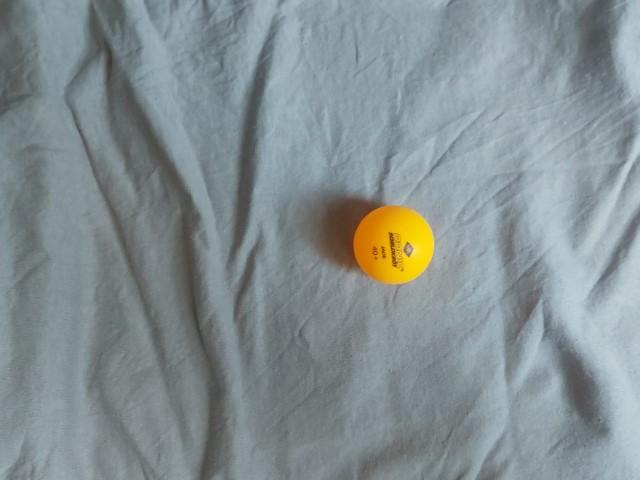oball: (345, 200, 441, 293)
